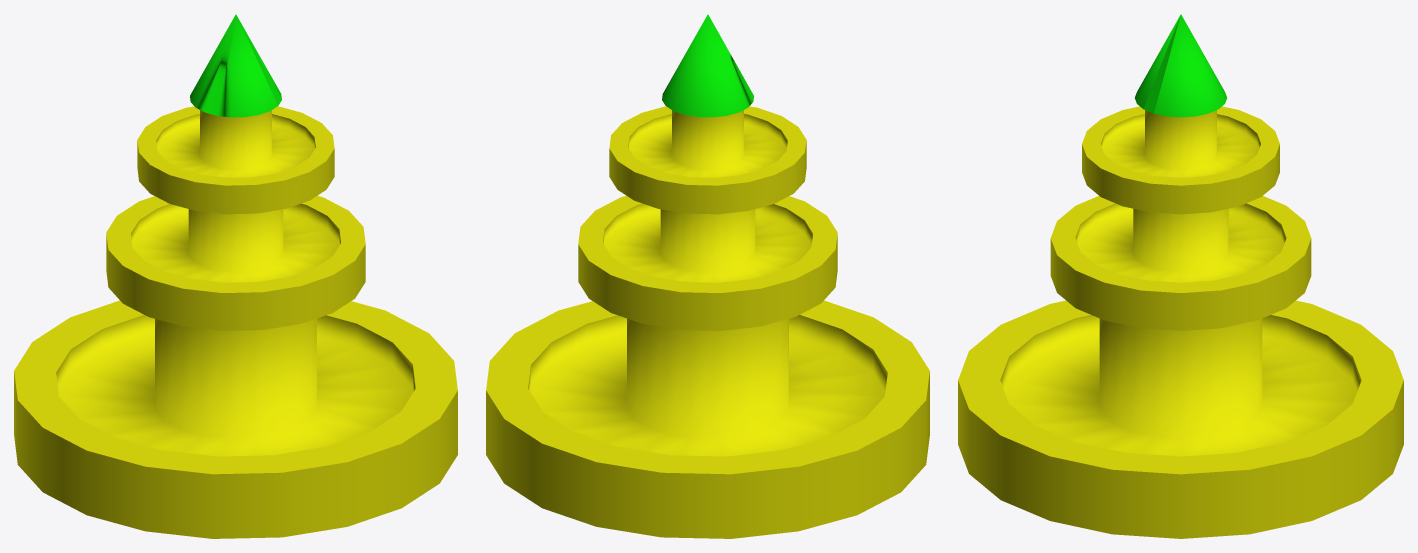
Rendered from Fountaintest.fbx.
3 views of the same model, side by side, from view 1: azimuth 30°, elevation 25°; view 2: azimuth 150°, elevation 25°; view 3: azimuth 270°, elevation 25° (orthographic).
Visible parts, largest first — view 1: pCylinder4, pCone1; view 2: pCylinder4, pCone1; view 3: pCylinder4, pCone1.
Part boxes in pixels (<box>): pCylinder4: <box>14,106,457,538</box>; pCone1: <box>190,14,281,117</box>; pCylinder4: <box>486,106,929,538</box>; pCone1: <box>662,14,753,117</box>; pCylinder4: <box>958,106,1403,538</box>; pCone1: <box>1135,14,1226,117</box>.
Size of the model in its own units: 7.35 by 7.84 by 7.35.
